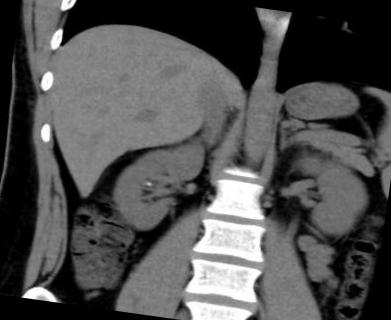Tas_Var: (142, 178, 154, 188)
